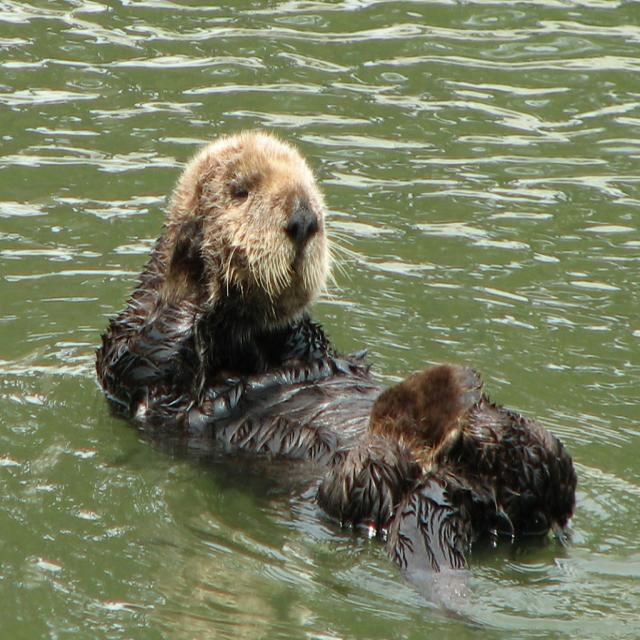otter: (98, 134, 579, 534)
